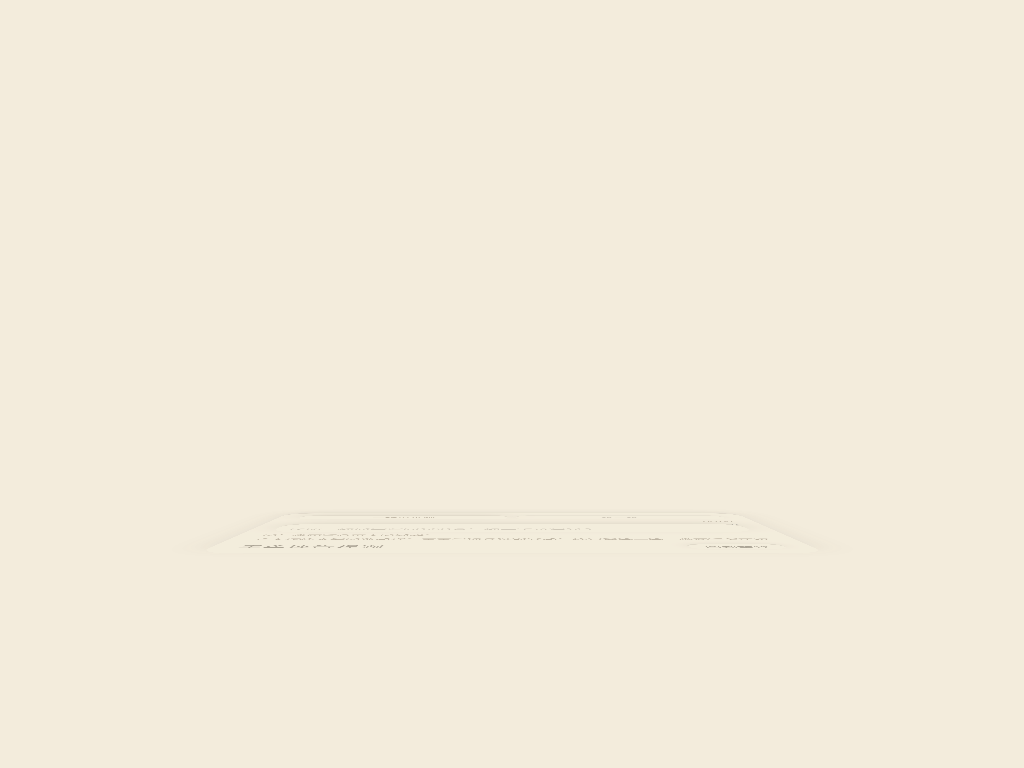
Test: 事实还是猜测 › 可以一键填示例，空输入时不能提交
expect the button "拆一拆" is disabled: met, box [516,516,728,520]
Click the button "一键填示例" at (402, 518), box [296,516,508,520]
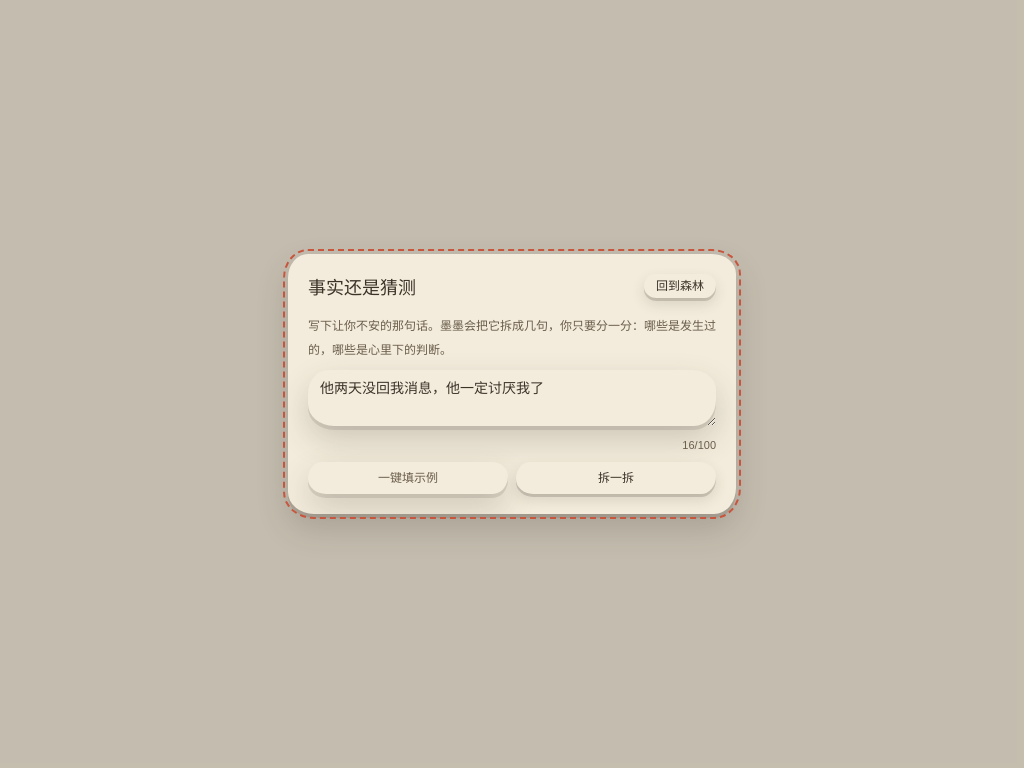
expect the text box named "写下让你不安的话" is not empty: met, box [308,370,716,426]
expect the button "拆一拆" is enabled: met, box [516,462,716,494]
